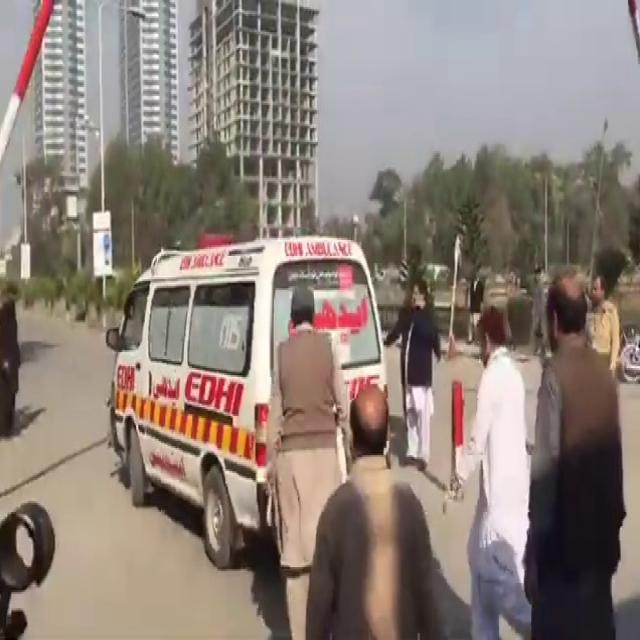ambulance: (120, 170, 395, 550)
